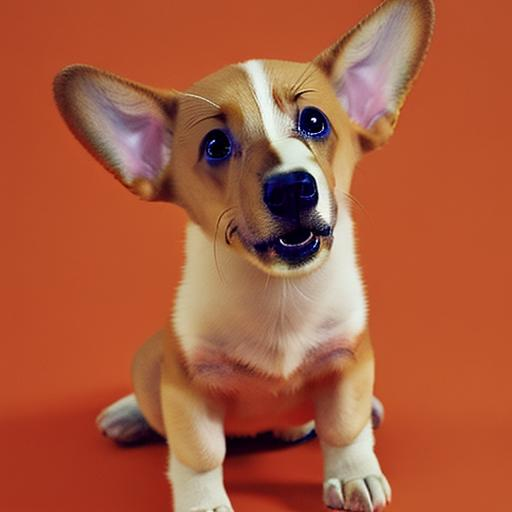eye: (193, 131, 249, 166), (296, 103, 337, 143)
